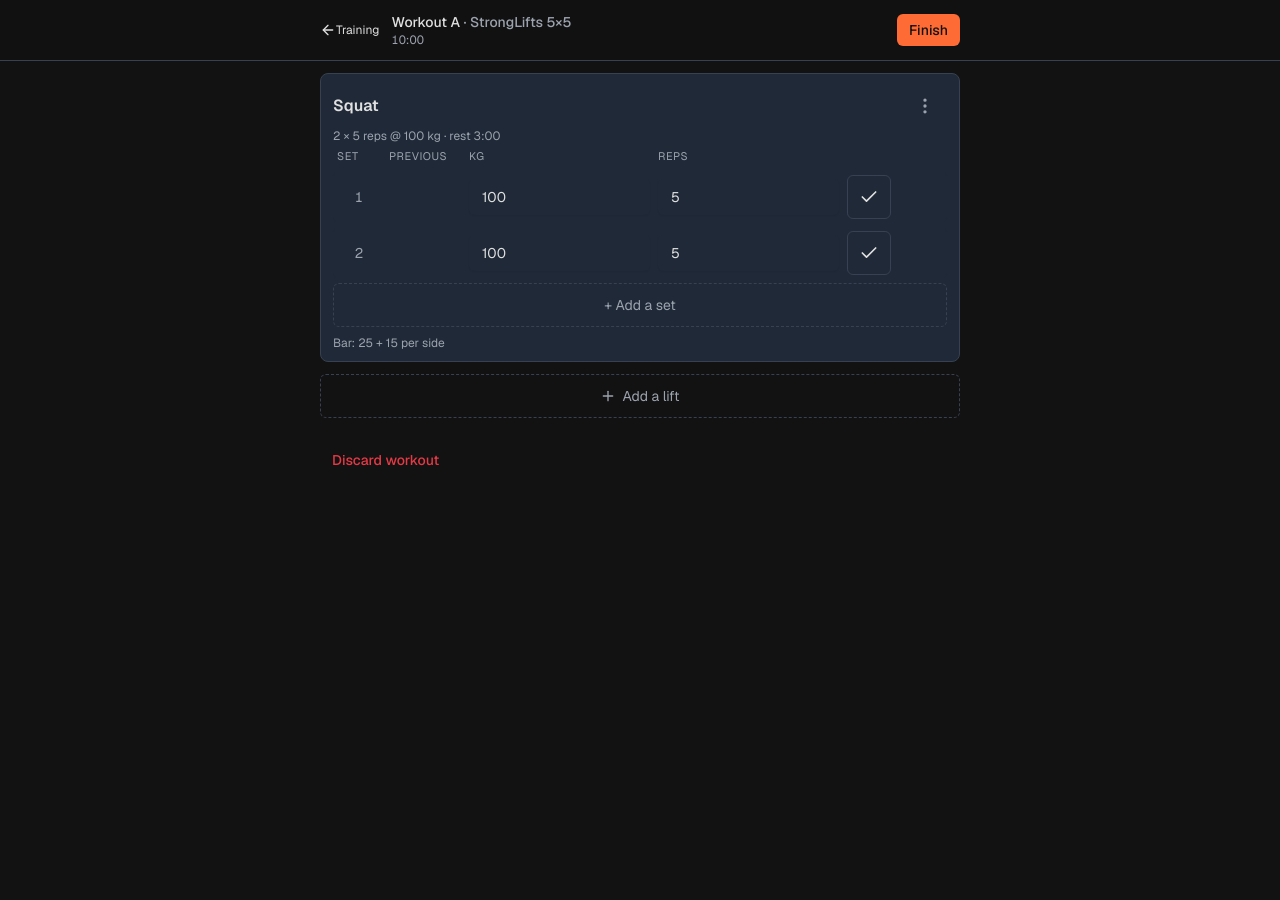
it: a workout happening now › still starts the rest clock
Step 1. Click the button with test id "tick-1" → coordinates (869, 196), box [847,174,891,218]
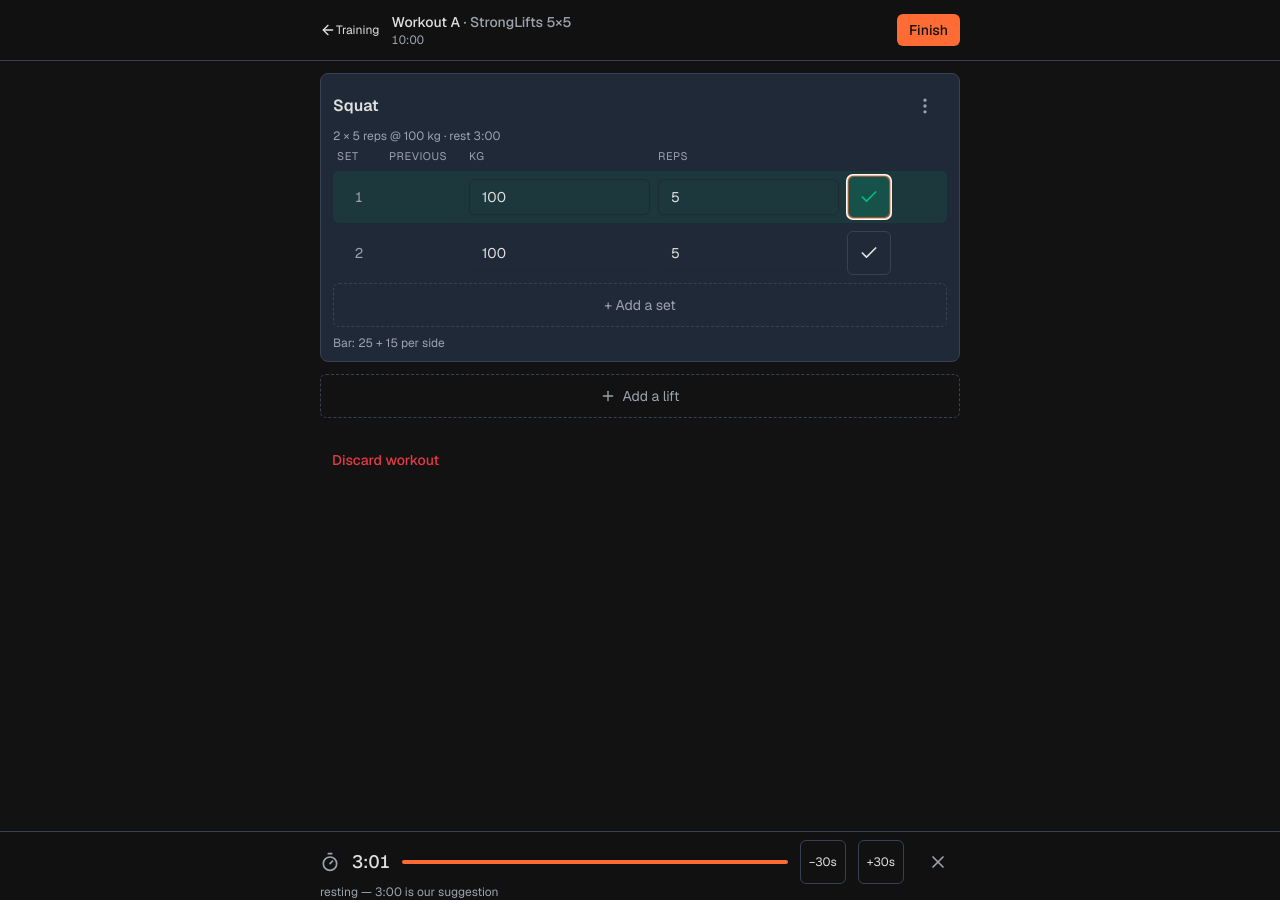
Expected: the message "3:01 −30s +30s resting — 3:00 is our suggestion" is shown, [0,831,1279,899]
